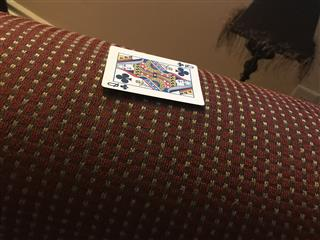QueenOfClubs: (99, 44, 205, 106)
